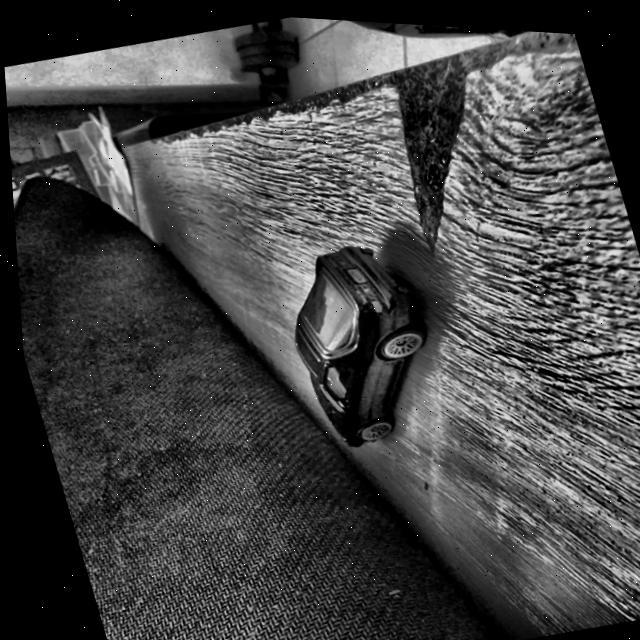car: (263, 224, 452, 454)
